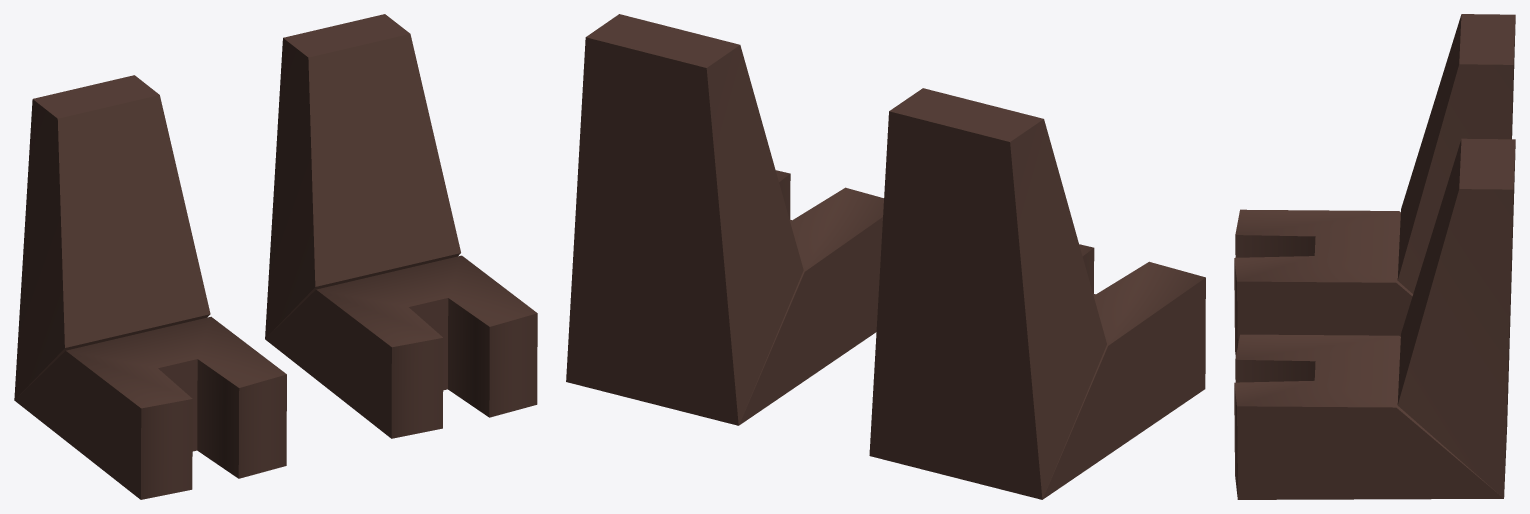
The model's file is m_airlift_4da4fdaf.glb.
3 renders of one model, left to right at view 1: azimuth 30°, elevation 25°; view 2: azimuth 150°, elevation 25°; view 3: azimuth 270°, elevation 25°, orthographic. The views are drawn at different scales.
Parts seen in each view (by area): view 1: mesh; view 2: mesh; view 3: mesh.
Part boxes in pixels (left/top/right/bottom): mesh: left=14, top=14, right=537, bottom=499; mesh: left=566, top=14, right=1205, bottom=499; mesh: left=1234, top=14, right=1515, bottom=499.
Bounding box in the file's own units: 1686 × 1196 × 1011.
